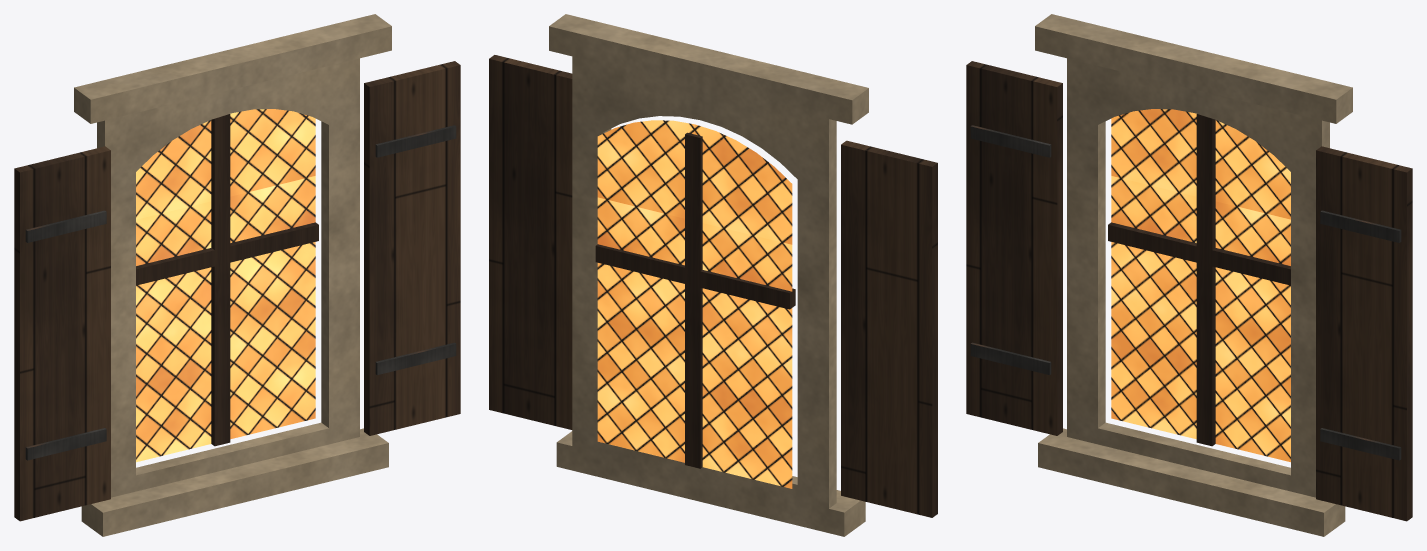
File: window_shutters.gltf
3 views of the same model, side by side, from view 1: azimuth 30°, elevation 25°; view 2: azimuth 150°, elevation 25°; view 3: azimuth 330°, elevation 25° (orthographic).
Parts seen in each view (by area): view 1: window_shutters_frame, INT_window, INT_window_shutter_L, INT_window_shutter_R; view 2: INT_window, window_shutters_frame, INT_window_shutter_L, INT_window_shutter_R; view 3: window_shutters_frame, INT_window, INT_window_shutter_L, INT_window_shutter_R.
Boxes of the visible parts, x1,y1,x2,y2 form: window_shutters_frame: (74, 14, 391, 536); INT_window: (136, 109, 318, 462); INT_window_shutter_L: (14, 146, 110, 521); INT_window_shutter_R: (364, 61, 460, 435); INT_window: (595, 120, 795, 488); window_shutters_frame: (549, 14, 868, 536); INT_window_shutter_L: (841, 140, 937, 517); INT_window_shutter_R: (489, 55, 572, 429); window_shutters_frame: (1035, 14, 1352, 536); INT_window: (1108, 109, 1290, 462); INT_window_shutter_L: (966, 61, 1062, 435); INT_window_shutter_R: (1316, 146, 1412, 521).
Size of the model in its own units: 2.28 by 2.16 by 0.26.
5 materials, 5 textured.
